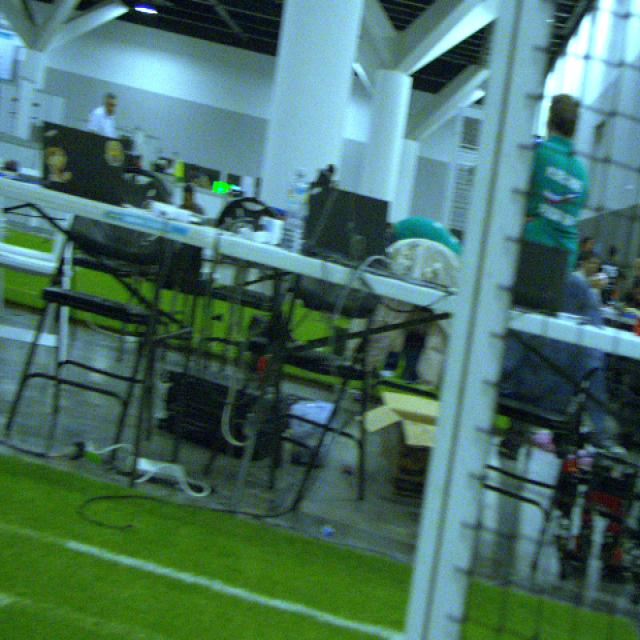goalpost: (403, 3, 549, 637)
